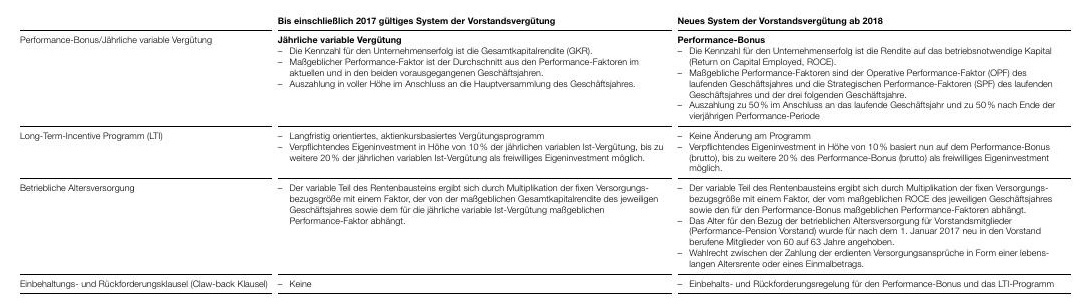table: (0, 0, 1082, 304)
